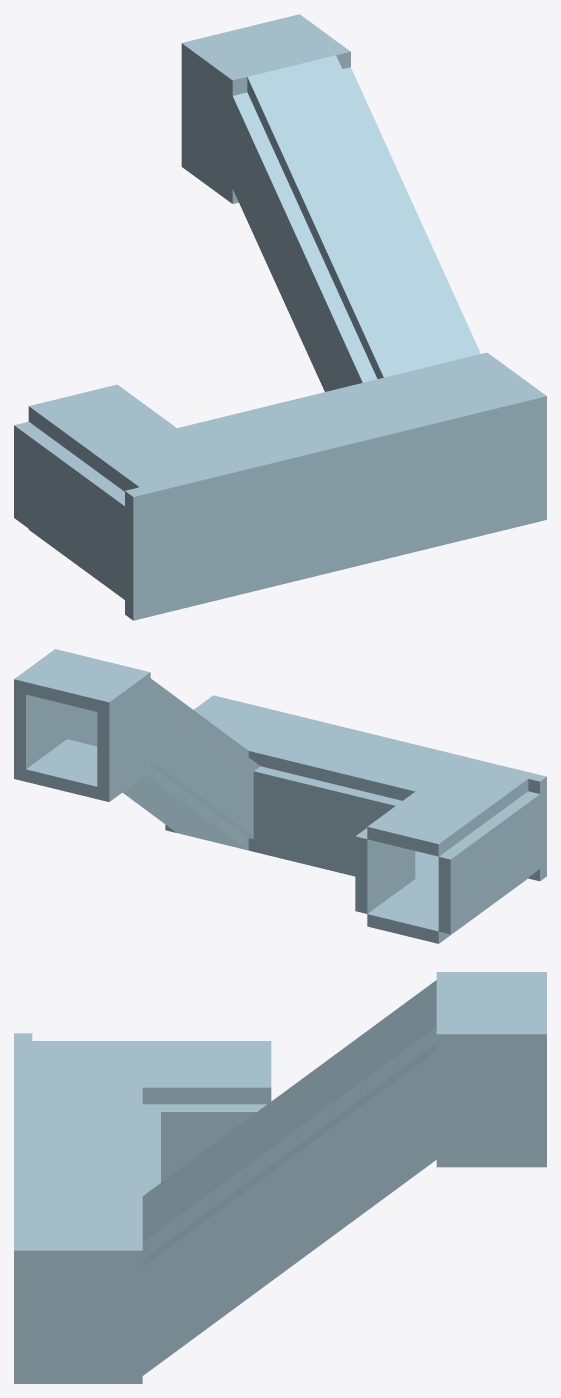
Rendered from stairs_down.obj.
3 views of the same model, one above another, from view 1: azimuth 30°, elevation 25°; view 2: azimuth 150°, elevation 25°; view 3: azimuth 270°, elevation 25° (orthographic). The views are drawn at different scales.
Visible parts, largest first — view 1: plane, cuboid; view 2: plane, cuboid; view 3: plane, cuboid.
Boxes of the visible parts, x1,y1,x2,y2 form: plane: [14, 14, 546, 620]; cuboid: [232, 55, 480, 391]; plane: [14, 649, 546, 943]; cuboid: [67, 678, 260, 850]; plane: [14, 972, 546, 1383]; cuboid: [142, 980, 436, 1375].
Size of the model in its own units: 1.75 by 1.31 by 1.81.
2 materials, 2 textured.
